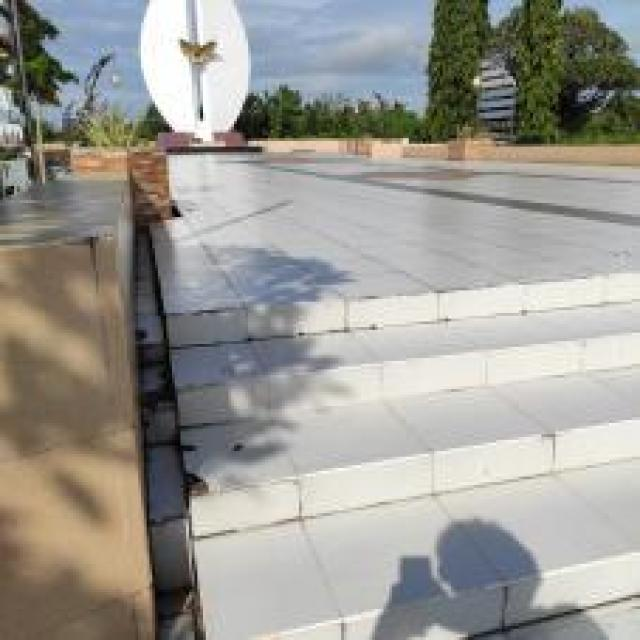upstair: (156, 286, 638, 638)
